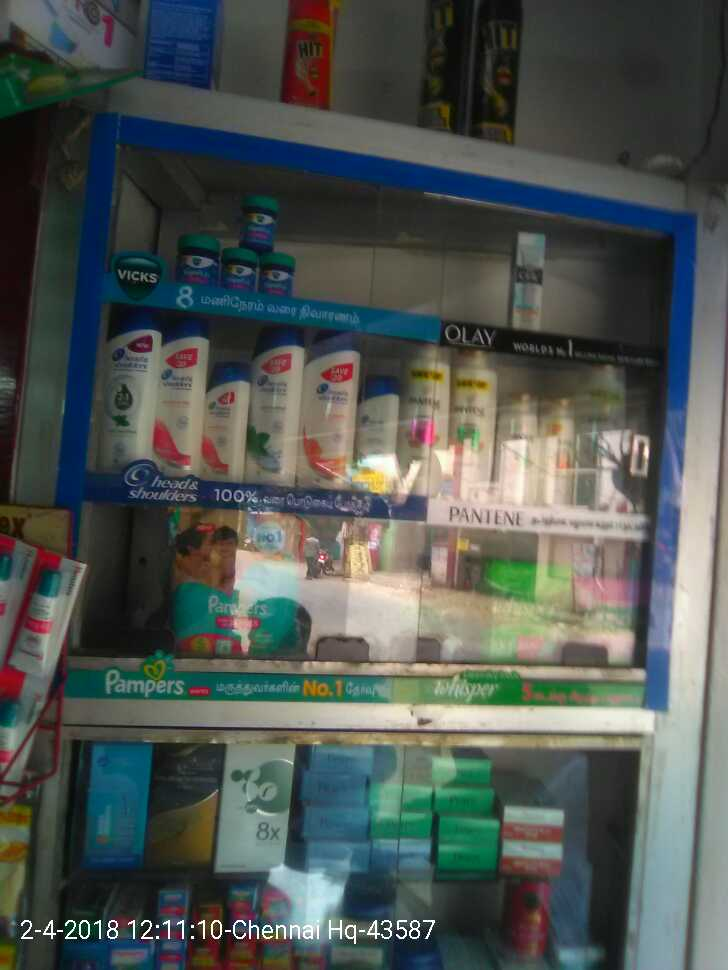vicks: (185, 195, 291, 295)
